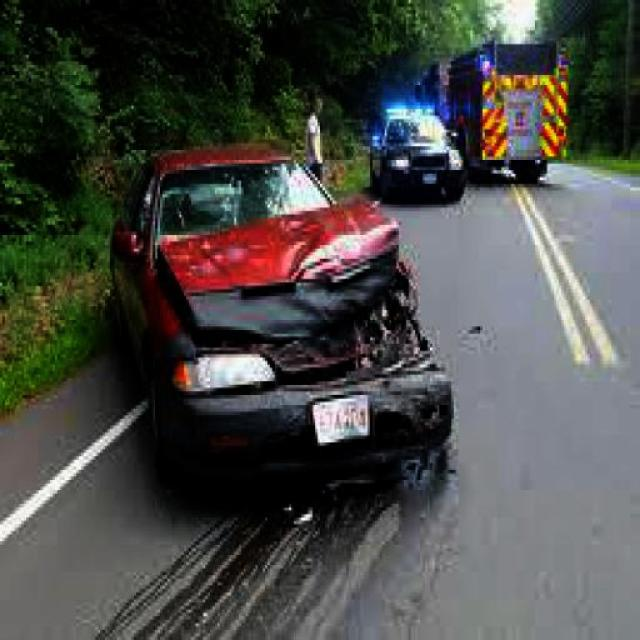car damage: (157, 200, 458, 470)
